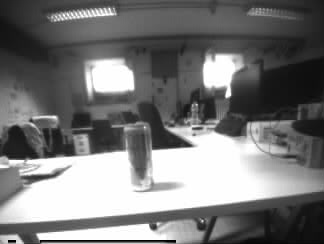Bottle: (191, 101, 198, 125)
Tin can: (125, 122, 154, 190)
